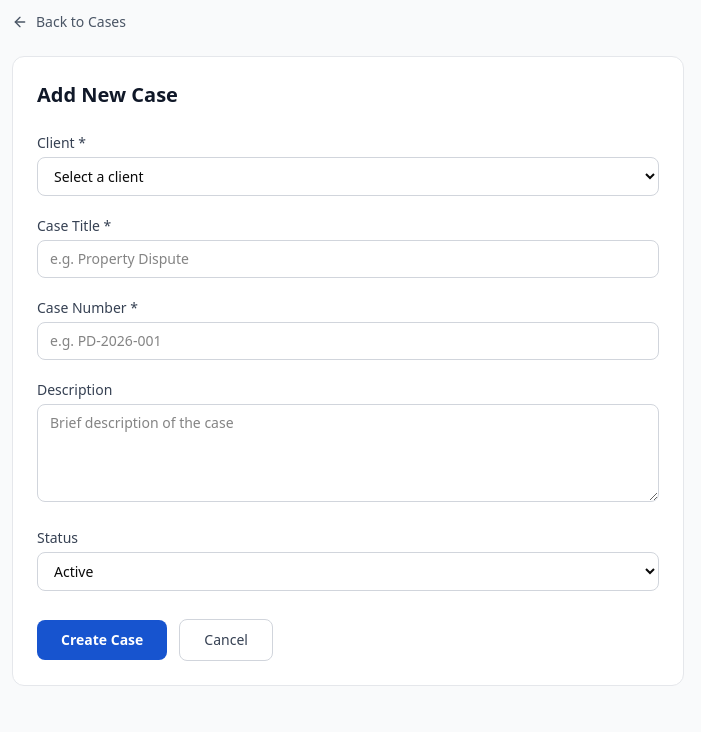
Scenario: CaseForm › shows validation errors for required fields
The width and height of the screenshot is (701, 732).
Click the button "Create Case": point(102, 640) [37,620,167,660]
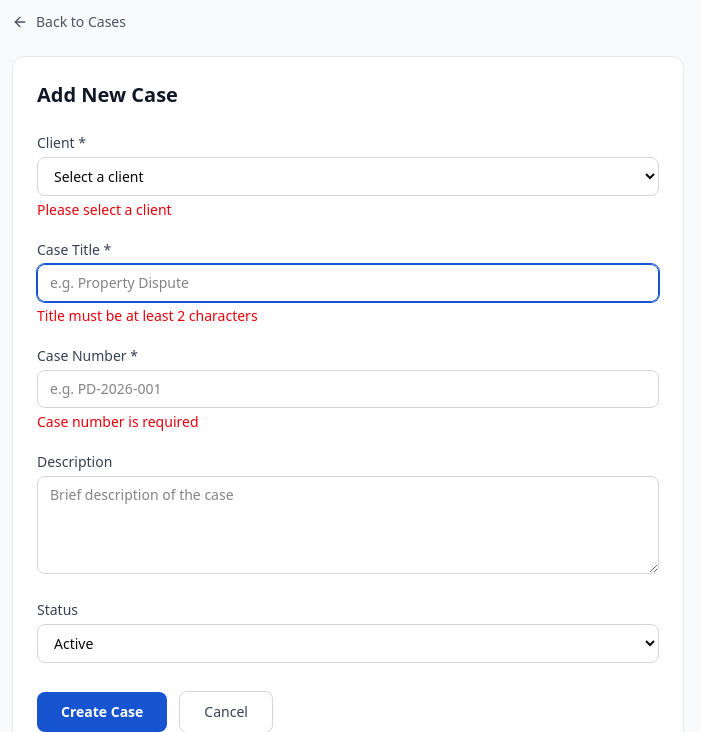
Expected: the text "Please select a client" is shown, [37,200,172,219]
Expected: the text "Title must be at least 2 characters" is shown, [37,306,258,325]
Expected: the text "Case number is required" is shown, [37,412,198,431]
